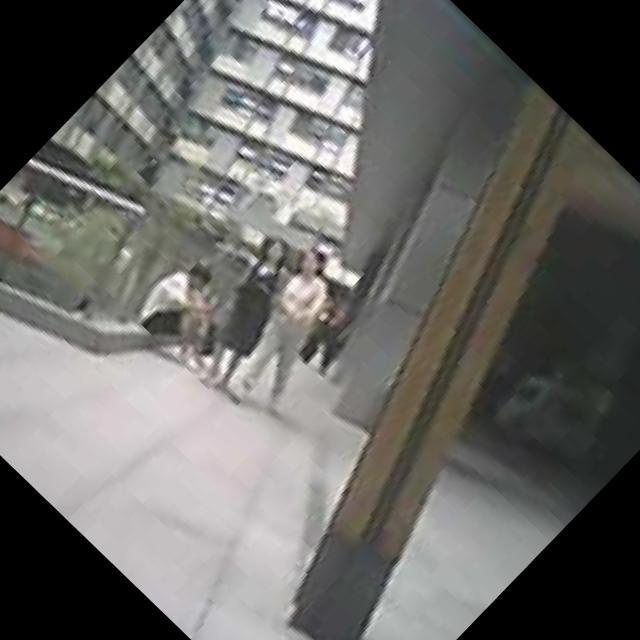person: (197, 242, 381, 428), (166, 228, 330, 394), (127, 251, 238, 363)
